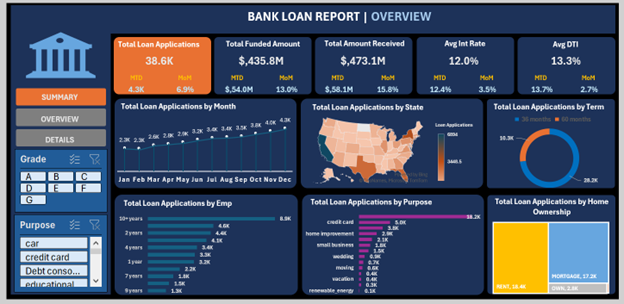

What the dashboard file says about the page in this screenshot:
{"tool":"tableau","page":{"name":"Overview Dashboard","canvas":[1600,900],"ordinal":1},"visuals":[{"type":"image","param":"C:/Users/JOY/Downloads/overview-01.jpg","box":[8,8,1584,884]},{"type":"text","box":[478,32,717,40]},{"type":"worksheet","title":"Total Loan Applications (Overview)","mark":"Automatic","box":[266,99,240,75]},{"type":"worksheet","title":"Total Amount Received (Overview)","mark":"Automatic","box":[793,99,245,80]},{"type":"worksheet","title":"Avg Interest Rate (Overview)","mark":"Automatic","box":[1057,99,249,78]},{"type":"worksheet","title":"Average DTI (Overview)","mark":"Automatic","box":[1325,99,244,77]},{"type":"worksheet","title":"Total Funded Amount (Overview)","mark":"Automatic","box":[528,100,242,75]},{"type":"worksheet","title":"MTD Avg Interest Rate (Overview)","mark":"Automatic","box":[1060,180,121,67]},{"type":"worksheet","title":"MoM Total Loan Applications (Overview)","mark":"Automatic","box":[392,181,115,66]},{"type":"worksheet","title":"MoM Total Amount Received (Overview)","mark":"Automatic","box":[920,181,118,63]},{"type":"worksheet","title":"MTD Total Loan Applications (Overview)","mark":"Automatic","box":[265,182,125,64]},{"type":"worksheet","title":"MTD Total Funded Amount (Overview)","mark":"Automatic","box":[527,182,125,63]},{"type":"worksheet","title":"MoM Average Interest Rate (Overview)","mark":"Automatic","box":[1185,182,121,65]},{"type":"worksheet","title":"MTD Average DTI (Overview)","mark":"Automatic","box":[1326,182,119,65]},{"type":"worksheet","title":"MoM Total Funded Amount (Overview)","mark":"Automatic","box":[656,183,115,63]},{"type":"worksheet","title":"MTD Total Amount Received (Overview)","mark":"Automatic","box":[793,183,123,64]},{"type":"worksheet","title":"MoM Average DTI (Overview)","mark":"Automatic","box":[1447,183,121,63]},{"type":"dashboard-object","box":[48,238,176,51]},{"type":"worksheet","title":"By State","mark":"Automatic","box":[767,265,459,296]},{"type":"worksheet","title":"Monthly Trends","mark":"Area","rows":["Calculation_0657287018024960","Calculation_0657287018024960"],"cols":["issue_date"],"box":[265,266,485,294]},{"type":"worksheet","title":"By Loan Term","mark":"Pie","rows":["Calculation_0282077807128601","Calculation_0282077807128601"],"box":[1247,267,321,291]},{"type":"legend","title":"By Loan Term","param":"[federated.02bapp10spx5te19axciv0uohof1].[none:term:nk]","box":[1281,300,250,24]},{"type":"dashboard-object","box":[50,311,174,51]},{"type":"dashboard-object","box":[51,384,173,52]},{"type":"parameter","param":"[Parameters].[Parameter 2]","box":[52,519,172,48]},{"type":"worksheet","title":"Loan Purpose","mark":"Automatic","rows":["purpose"],"cols":["Calculation_0657287018024960"],"box":[767,578,459,304]},{"type":"worksheet","title":"By Employee Length","mark":"Automatic","rows":["emp_length"],"cols":["Calculation_0657287018024960"],"box":[265,579,485,299]},{"type":"worksheet","title":"Home Ownership","mark":"Automatic","box":[1248,579,321,302]},{"type":"filter","title":"Monthly Trends","param":"[federated.02bapp10spx5te19axciv0uohof1].[none:purpose:nk]","box":[49,590,175,55]},{"type":"filter","title":"Monthly Trends","param":"[federated.02bapp10spx5te19axciv0uohof1].[none:verification_status:nk]","box":[50,665,176,49]},{"type":"filter","title":"Monthly Trends","param":"[federated.02bapp10spx5te19axciv0uohof1].[none:grade:nk]","box":[52,735,173,53]}]}

Visuals, with their boxes on the page's 1600x900 design canvas (x1, y1, x2, y2). These are canvas units, not pixel positions in the 624x304 screenshot, which may show the page scaled, cropped or inside an application window:
image: Rect(8, 8, 1592, 892)
text: Rect(478, 32, 1195, 72)
"Total Loan Applications (Overview)" worksheet: Rect(266, 99, 506, 174)
"Total Amount Received (Overview)" worksheet: Rect(793, 99, 1038, 179)
"Avg Interest Rate (Overview)" worksheet: Rect(1057, 99, 1306, 177)
"Average DTI (Overview)" worksheet: Rect(1325, 99, 1569, 176)
"Total Funded Amount (Overview)" worksheet: Rect(528, 100, 770, 175)
"MTD Avg Interest Rate (Overview)" worksheet: Rect(1060, 180, 1181, 247)
"MoM Total Loan Applications (Overview)" worksheet: Rect(392, 181, 507, 247)
"MoM Total Amount Received (Overview)" worksheet: Rect(920, 181, 1038, 244)
"MTD Total Loan Applications (Overview)" worksheet: Rect(265, 182, 390, 246)
"MTD Total Funded Amount (Overview)" worksheet: Rect(527, 182, 652, 245)
"MoM Average Interest Rate (Overview)" worksheet: Rect(1185, 182, 1306, 247)
"MTD Average DTI (Overview)" worksheet: Rect(1326, 182, 1445, 247)
"MoM Total Funded Amount (Overview)" worksheet: Rect(656, 183, 771, 246)
"MTD Total Amount Received (Overview)" worksheet: Rect(793, 183, 916, 247)
"MoM Average DTI (Overview)" worksheet: Rect(1447, 183, 1568, 246)
dashboard-object: Rect(48, 238, 224, 289)
"By State" worksheet: Rect(767, 265, 1226, 561)
"Monthly Trends" worksheet (Area marks): Rect(265, 266, 750, 560)
"By Loan Term" worksheet (Pie marks): Rect(1247, 267, 1568, 558)
"By Loan Term" legend: Rect(1281, 300, 1531, 324)
dashboard-object: Rect(50, 311, 224, 362)
dashboard-object: Rect(51, 384, 224, 436)
parameter: Rect(52, 519, 224, 567)
"Loan Purpose" worksheet: Rect(767, 578, 1226, 882)
"By Employee Length" worksheet: Rect(265, 579, 750, 878)
"Home Ownership" worksheet: Rect(1248, 579, 1569, 881)
"Monthly Trends" filter: Rect(49, 590, 224, 645)
"Monthly Trends" filter: Rect(50, 665, 226, 714)
"Monthly Trends" filter: Rect(52, 735, 225, 788)
